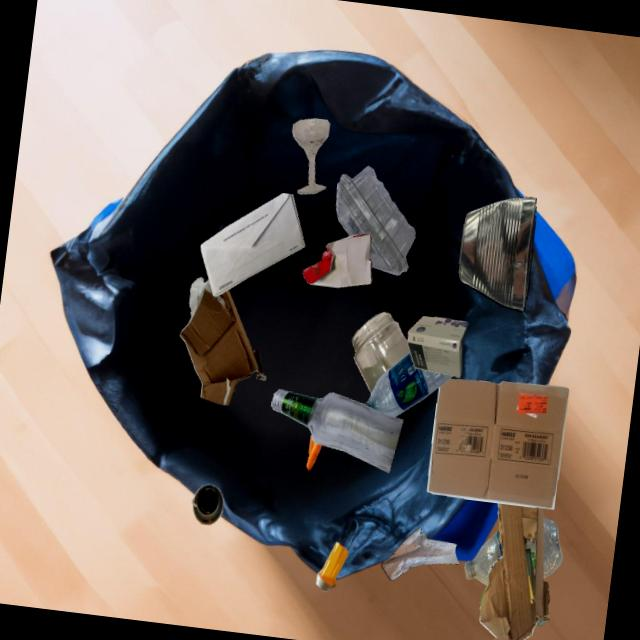biowaste: (306, 434, 321, 470)
cardboard: (426, 378, 569, 509), (179, 277, 266, 405), (479, 502, 550, 640), (407, 316, 468, 377)
glass: (270, 389, 403, 473), (351, 311, 409, 393), (292, 118, 330, 194), (191, 483, 223, 524)
metal: (458, 197, 536, 312)
paper: (200, 193, 304, 296), (381, 527, 459, 581), (302, 233, 372, 287)
plastic: (336, 165, 415, 275), (363, 352, 452, 417), (464, 530, 501, 585), (316, 541, 347, 591), (543, 518, 562, 578)
